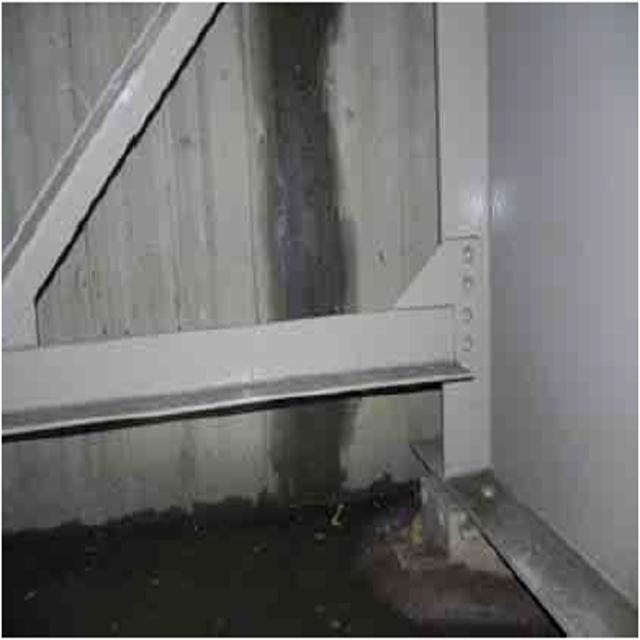leakage: (243, 10, 371, 524)
